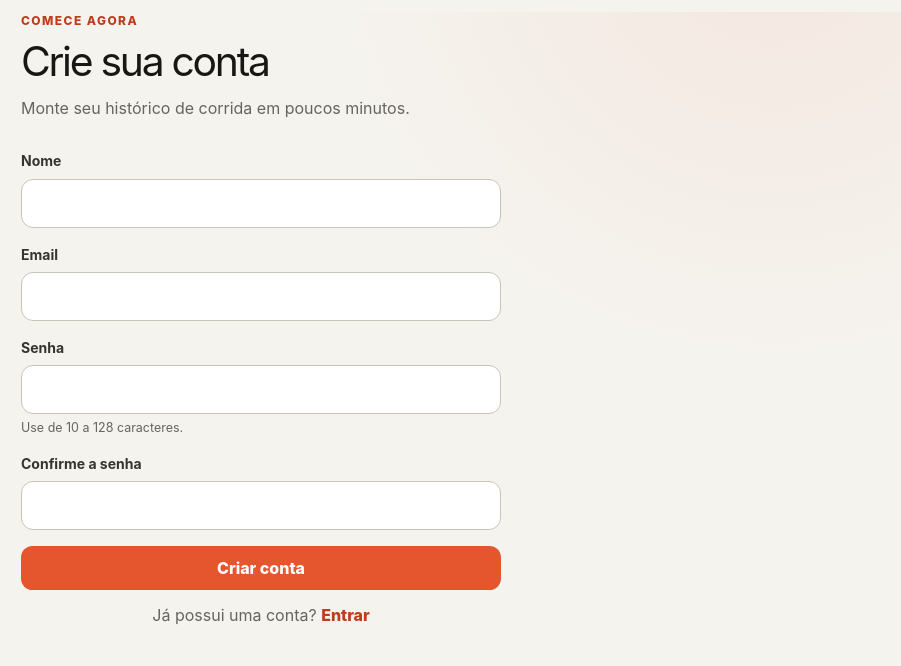
Test case: AuthForm › impede cadastro com senhas diferentes e preserva os valores
Type "Kauê" into the field labelled "Nome".
click(261, 203); type("Kauê")  # box [21,179,501,228]
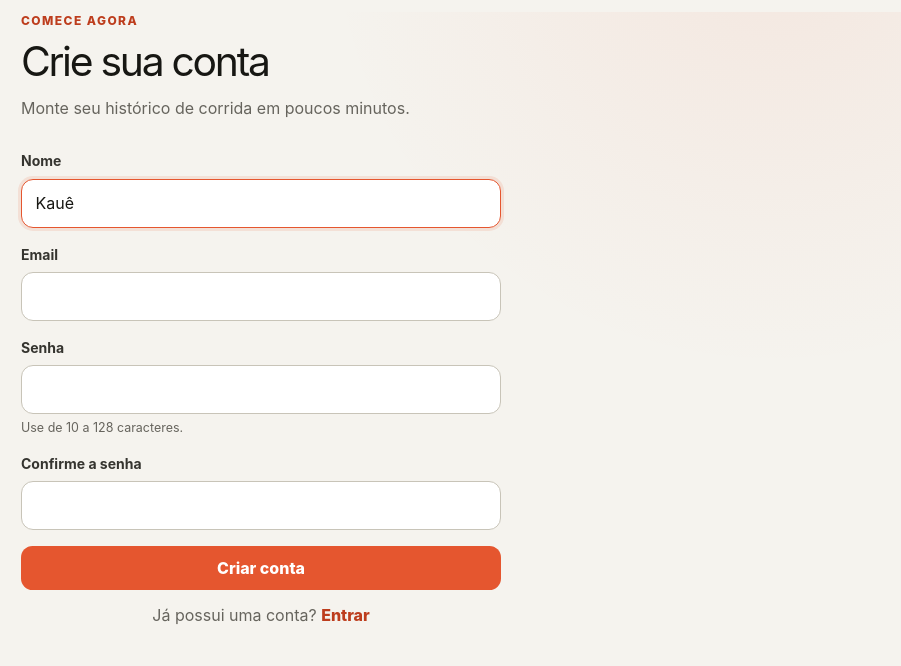
Type "kaue@example.com" into the field labelled "Email".
click(261, 296); type("kaue@example.com")  # box [21,272,501,321]
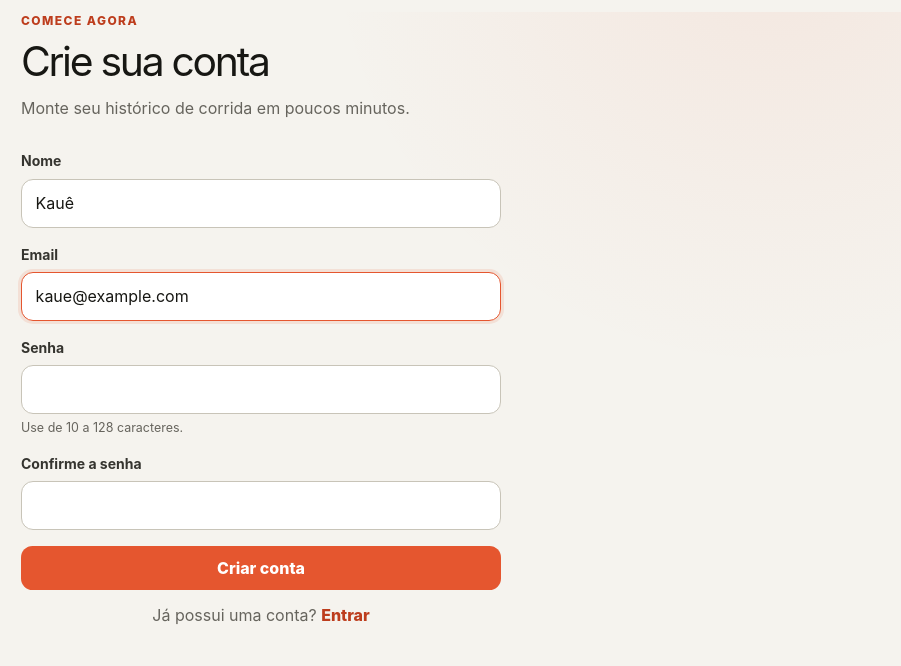
Type "senha-segura" into the password field labelled "Senha".
click(261, 390); type("senha-segura")  # box [21,365,501,414]
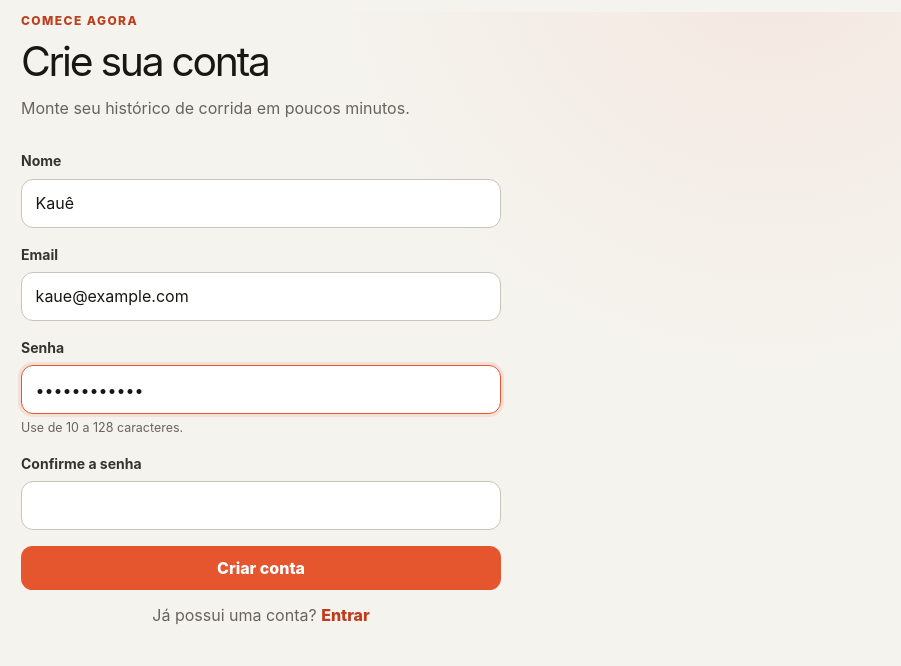
Type "outra-senha" into the password field labelled "Confirme a senha".
click(261, 506); type("outra-senha")  # box [21,481,501,530]
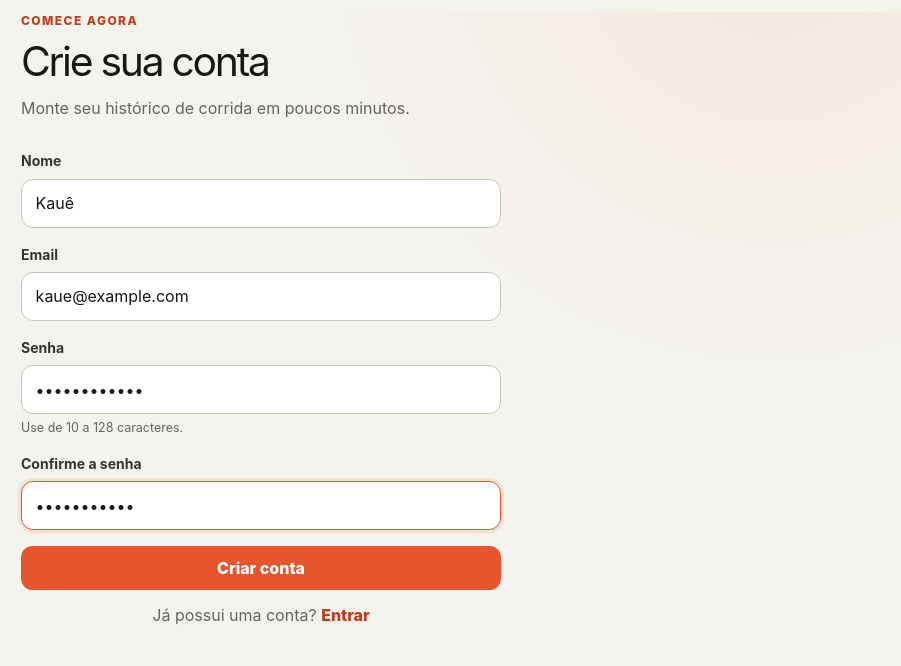
Click the button "Criar conta".
click(261, 568)  # box [21,546,501,590]
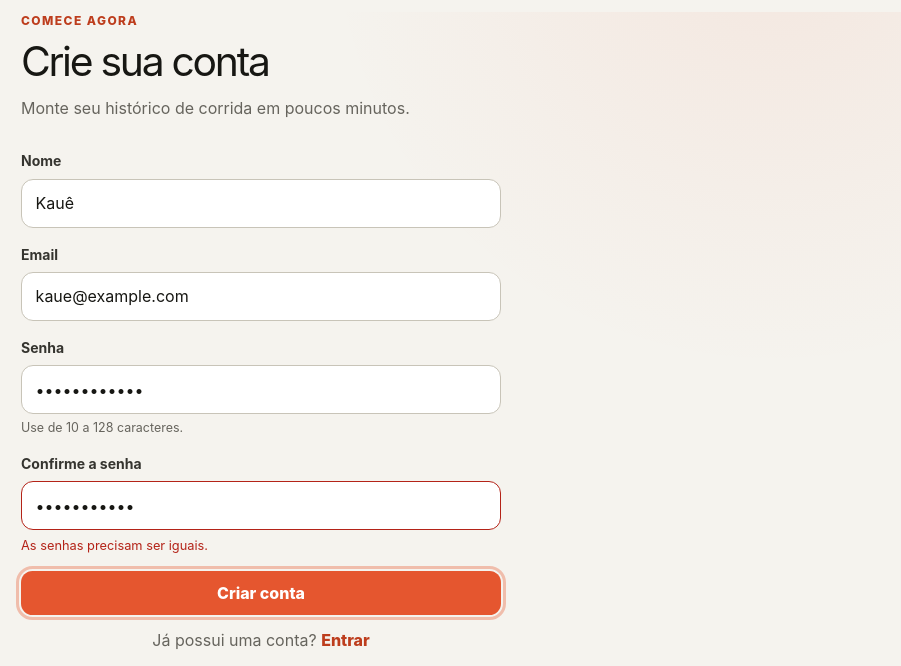
Result: the text "As senhas precisam ser iguais." is shown at [21,538,208,553]
